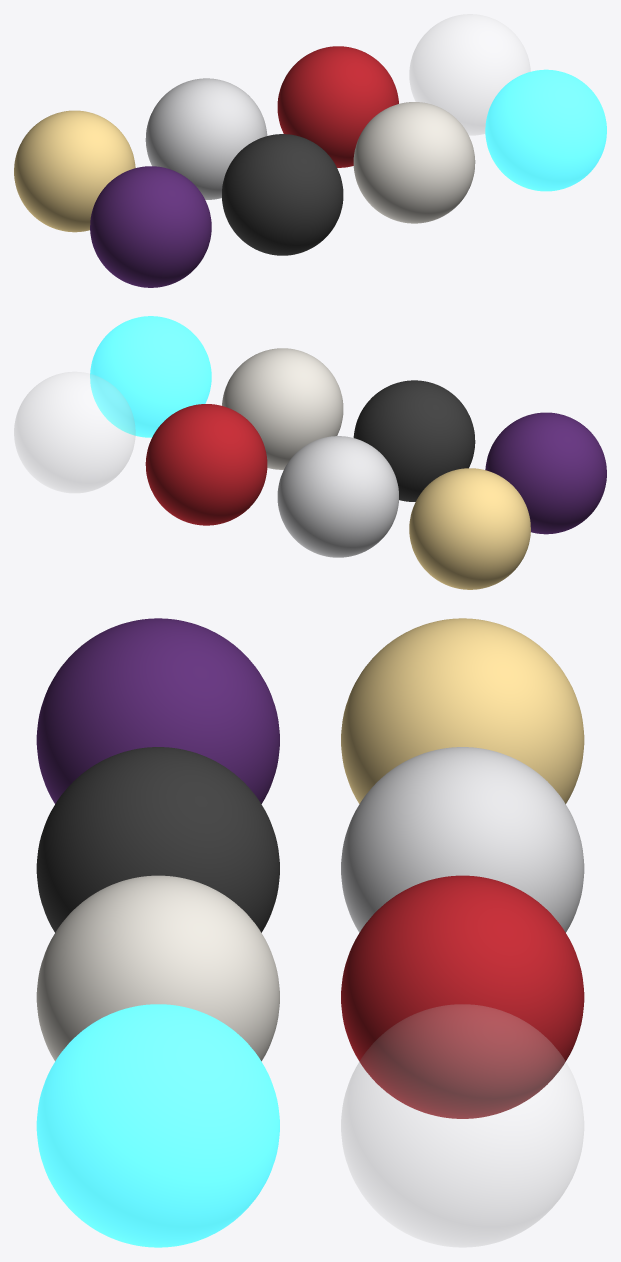
File: material-showcase.glb
The picture shows the model from 3 angles, top to bottom: view 1: azimuth 30°, elevation 25°; view 2: azimuth 150°, elevation 25°; view 3: azimuth 270°, elevation 25°; orthographic projection. The views are drawn at different scales.
Visible parts, largest first — view 1: Velvet, Matte ceramic, Neon, Soap film, Polished gold, Brushed steel, Car paint, Glass; view 2: Polished gold, Car paint, Brushed steel, Glass, Neon, Velvet, Soap film, Matte ceramic; view 3: Car paint, Neon, Glass, Matte ceramic, Brushed steel, Soap film, Polished gold, Velvet.
Part boxes in pixels (<box>): Velvet: <box>90,166,211,287</box>; Matte ceramic: <box>353,102,475,223</box>; Neon: <box>485,69,606,191</box>; Soap film: <box>222,134,343,255</box>; Polished gold: <box>14,110,135,232</box>; Brushed steel: <box>145,78,267,199</box>; Car paint: <box>277,46,398,167</box>; Glass: <box>409,14,530,135</box>; Polished gold: <box>409,468,530,589</box>; Car paint: <box>145,404,267,525</box>; Brushed steel: <box>277,436,398,557</box>; Glass: <box>14,372,135,492</box>; Neon: <box>90,316,211,437</box>; Velvet: <box>485,412,606,534</box>; Soap film: <box>353,380,475,501</box>; Matte ceramic: <box>222,348,343,469</box>; Car paint: <box>341,875,584,1118</box>; Neon: <box>36,1004,279,1247</box>; Glass: <box>341,1004,583,1247</box>; Matte ceramic: <box>36,875,279,1061</box>; Brushed steel: <box>341,747,584,932</box>; Soap film: <box>36,747,279,932</box>; Polished gold: <box>341,618,584,803</box>; Velvet: <box>36,618,279,803</box>.
Size of the model in its own units: 3.8 by 0.8 by 1.8.
